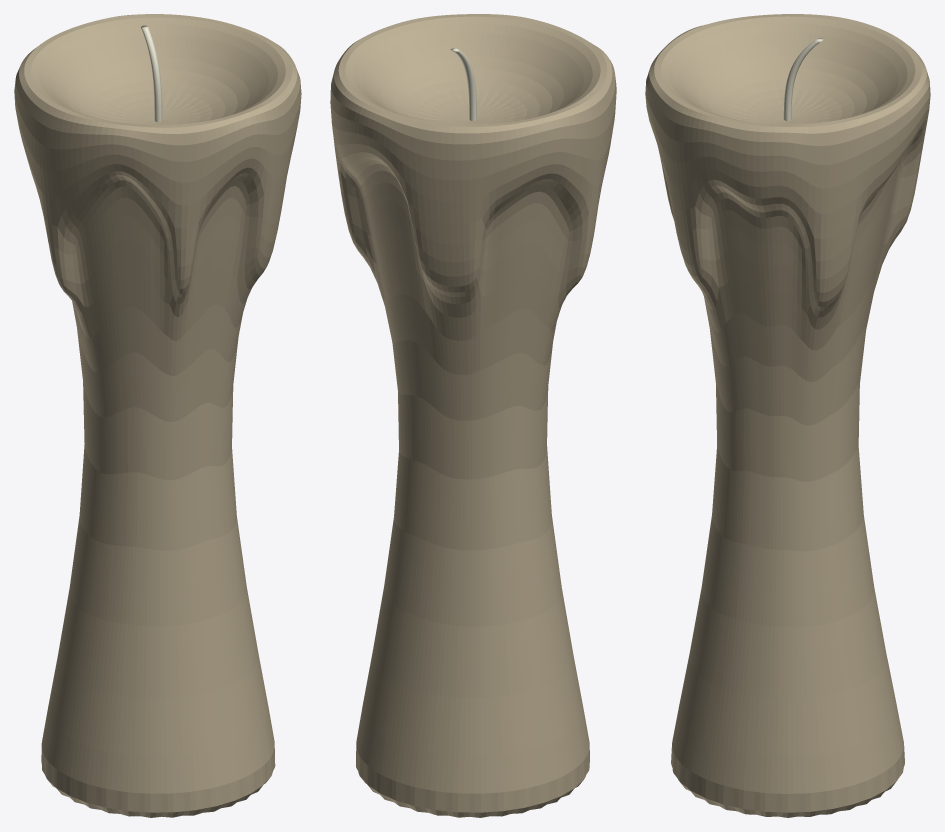
Rendered from Candle_V3.fbx.
3 renders of one model, left to right at view 1: azimuth 30°, elevation 25°; view 2: azimuth 150°, elevation 25°; view 3: azimuth 270°, elevation 25°, orthographic.
Visible parts, largest first — view 1: NurbsPath.002; view 2: NurbsPath.002; view 3: NurbsPath.002.
Boxes of the visible parts, x1,y1,x2,y2 form: NurbsPath.002: [14, 14, 301, 817]; NurbsPath.002: [330, 14, 616, 817]; NurbsPath.002: [645, 14, 930, 817].
Size of the model in its own units: 3.68 by 10.41 by 3.65.
